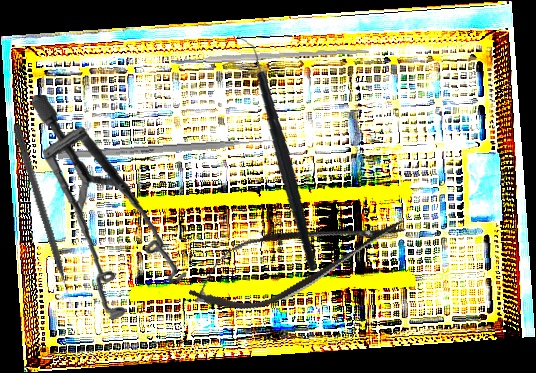Chopper: (217, 33, 337, 272)
Micro Scissor: (178, 190, 416, 329)
Pusher: (10, 122, 76, 310), (57, 136, 283, 160)
Scalpel Handle: (170, 46, 370, 66)
Speculum: (17, 94, 198, 325)
